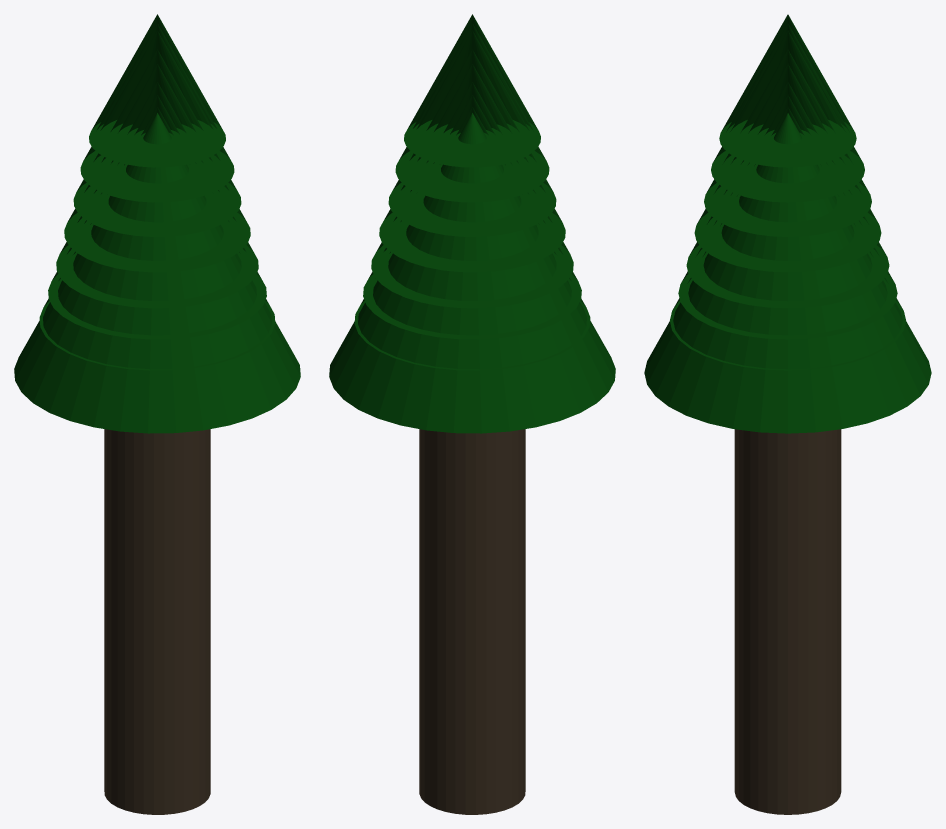
File: PineTree.fbx
3 views of the same model, side by side, from view 1: azimuth 30°, elevation 25°; view 2: azimuth 150°, elevation 25°; view 3: azimuth 270°, elevation 25° (orthographic).
Visible parts, largest first — view 1: Cone, Cylinder; view 2: Cone, Cylinder; view 3: Cone, Cylinder.
Boxes of the visible parts, x1,y1,x2,y2 form: Cone: (14,14,300,433); Cylinder: (104,429,210,814); Cone: (329,14,615,433); Cylinder: (419,429,525,814); Cone: (644,14,931,433); Cylinder: (734,429,841,814).
Bounding box in the file's own units: 540 × 1616 × 540.
